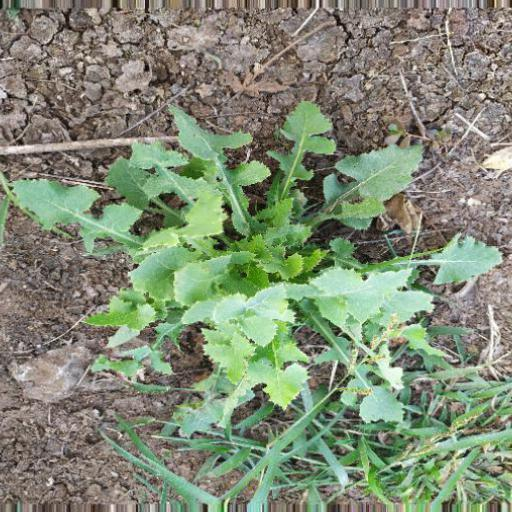weed: (31, 98, 488, 466)
